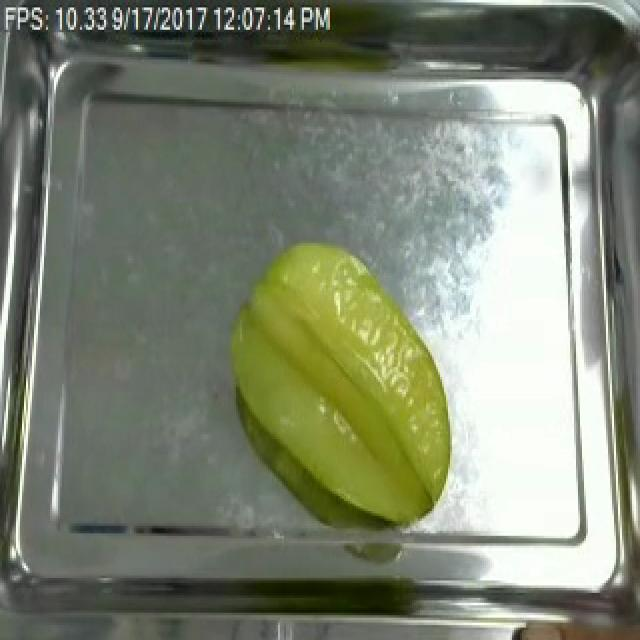fruit: (214, 231, 462, 536)
